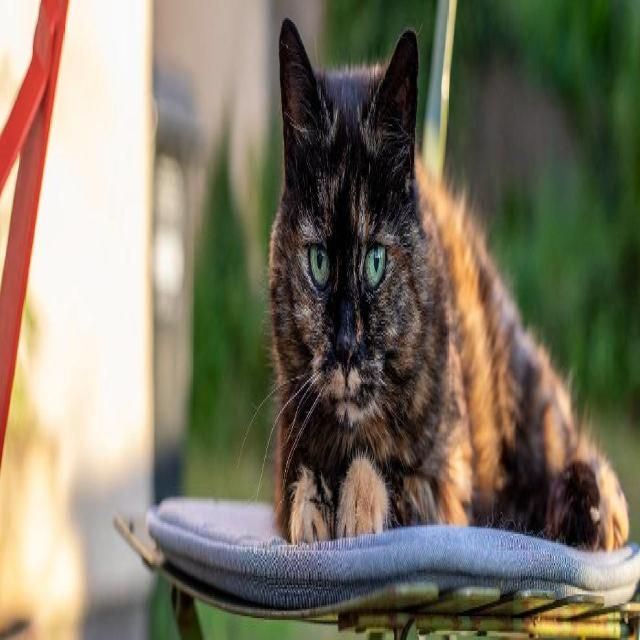Cat: (267, 6, 433, 438)
